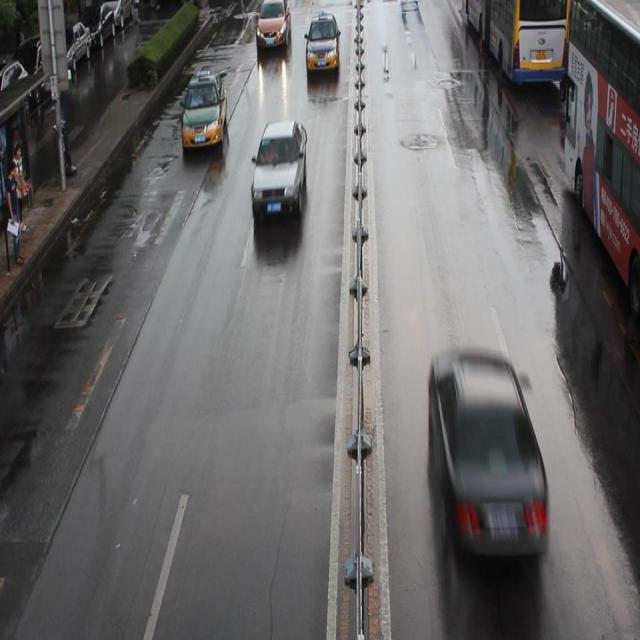car: (427, 349, 551, 549), (250, 119, 307, 219), (181, 67, 226, 153), (304, 11, 340, 73), (256, 1, 291, 49)
van: (562, 1, 640, 323), (460, 1, 567, 83)
